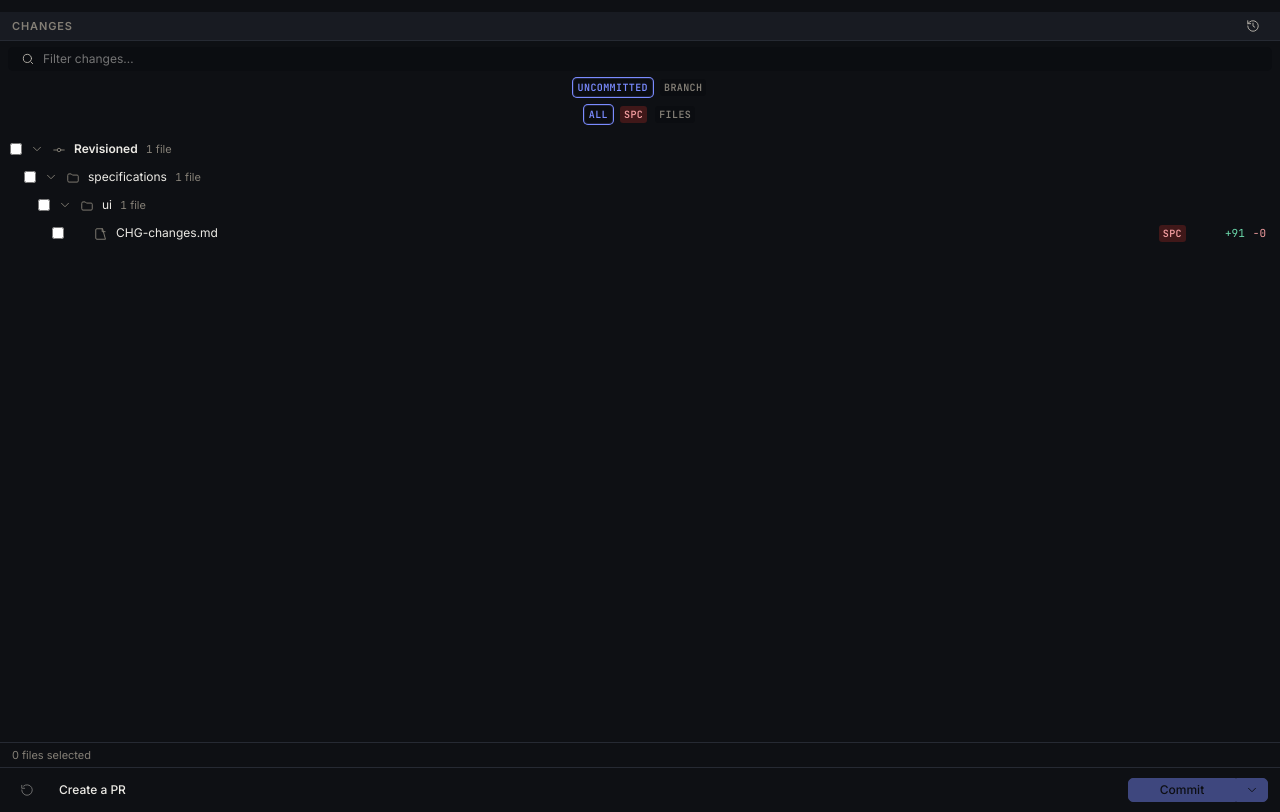
Test case: folder and group counts (CHG-FR-50..FR-53) › counts every visible file beneath a node, at any depth (CHG-FR-50, CHG-FR-51, CHG-FR-26)
Step 1. Click the radio button labelled "Files" → (675, 114), box [653,104,697,125]
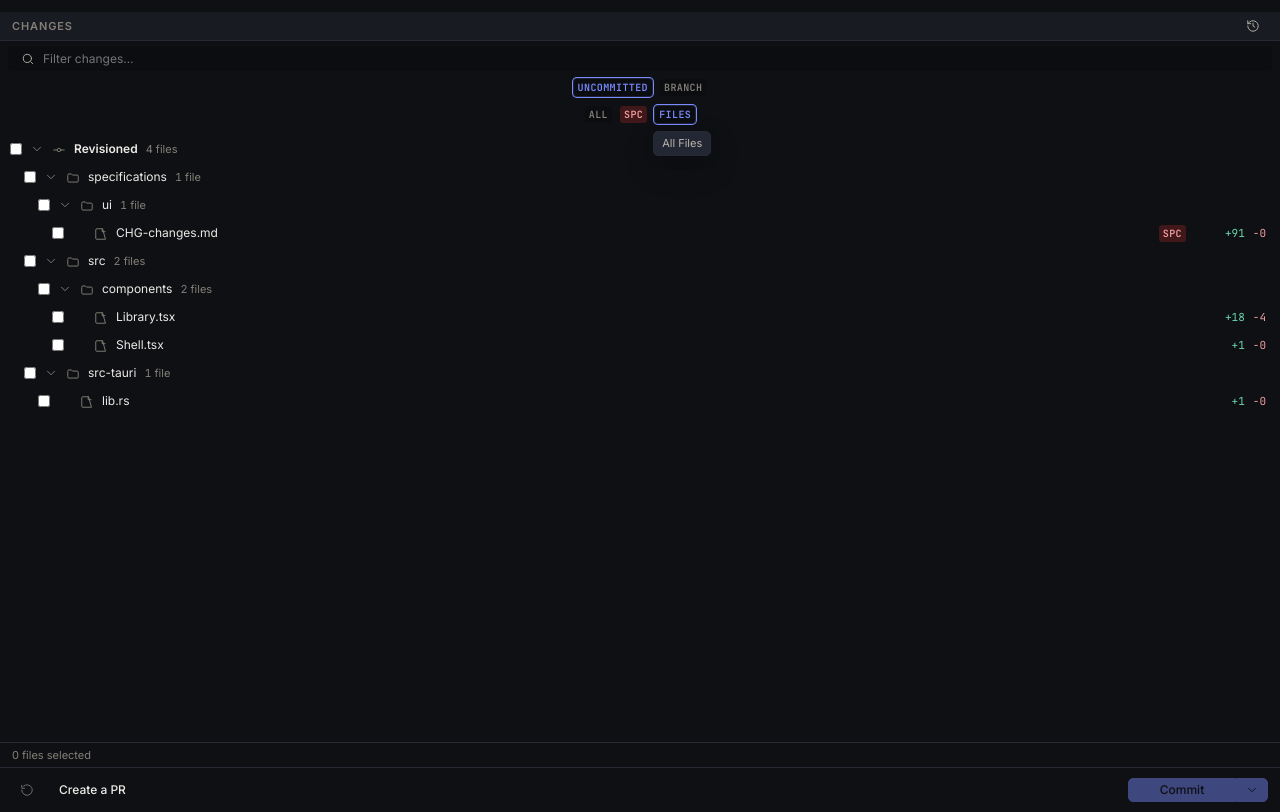
Check: the text "Library.tsx" is shown, box [116,309,175,324]
Check: the text with class "tree-row__count" reads "4 files", box [146,141,177,157]
Check: the 1st text with class "tree-row__count" reads "2 files", box [114,253,145,269]
